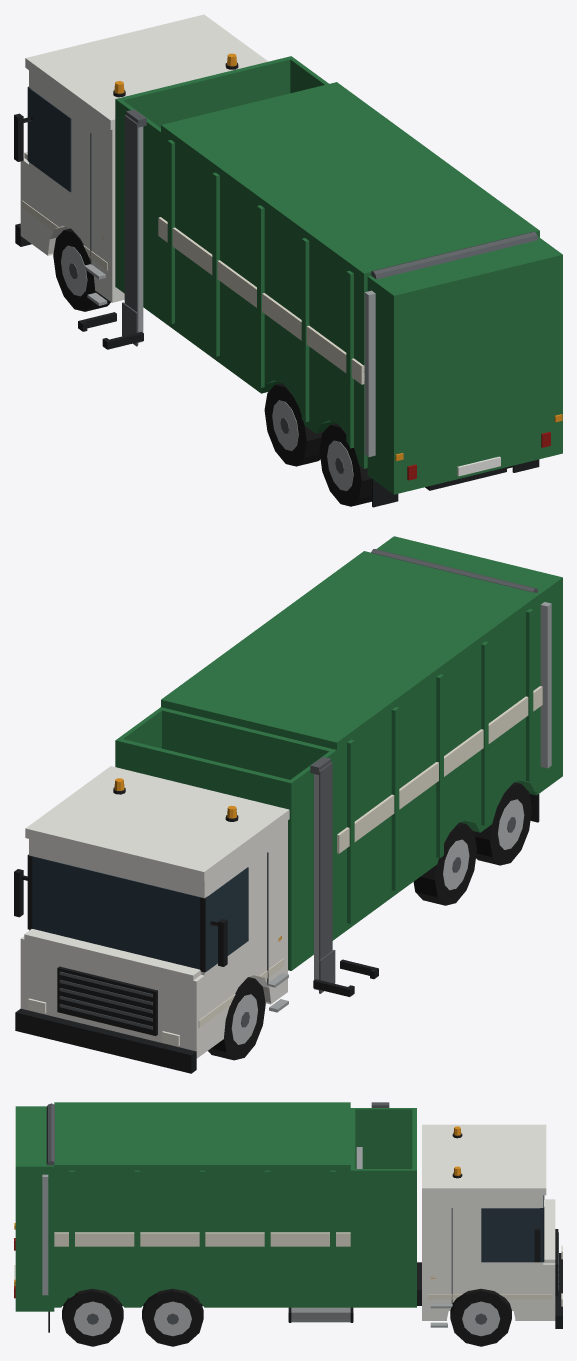
Rendered from bin_truck.glb.
3 views of the same model, one above another, from view 1: azimuth 30°, elevation 25°; view 2: azimuth 150°, elevation 25°; view 3: azimuth 270°, elevation 25° (orthographic). The views are drawn at different scales.
Parts seen in each view (by area): view 1: BinTruck, Rail, Grip; view 2: BinTruck, Rail, Grip; view 3: BinTruck.
Boxes of the visible parts, bbox=[...] form: BinTruck: bbox=[14, 14, 562, 507]; Rail: bbox=[124, 109, 146, 344]; Grip: bbox=[78, 302, 143, 349]; BinTruck: bbox=[14, 536, 562, 1073]; Rail: bbox=[310, 757, 332, 990]; Grip: bbox=[313, 950, 378, 996]; BinTruck: bbox=[14, 1102, 562, 1346].
Bounding box in the file's own units: 3.42 × 3.43 × 9.26.
